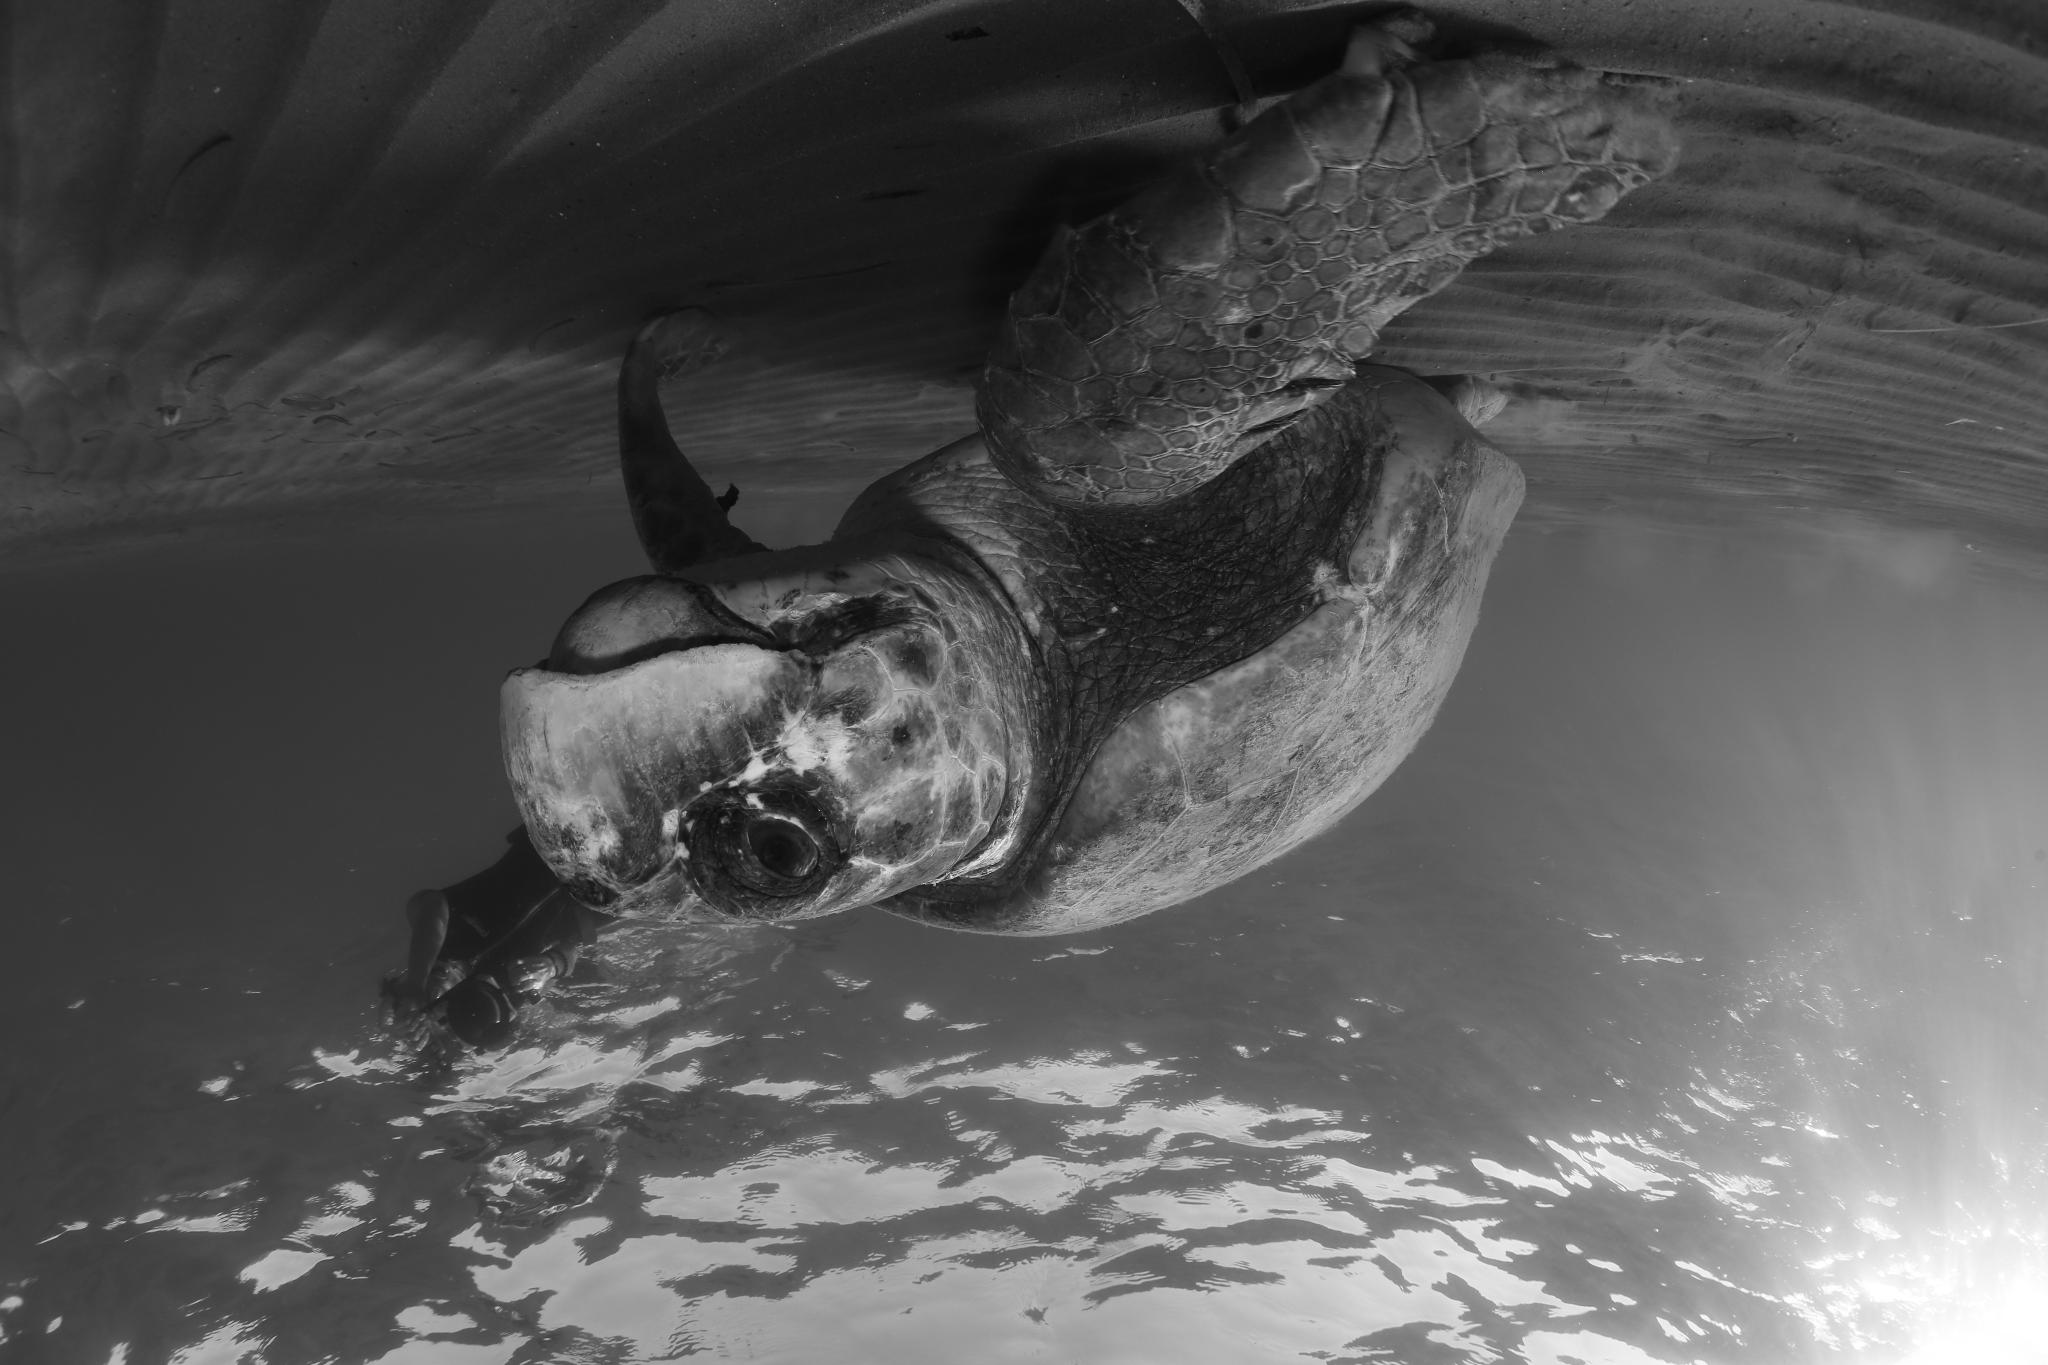Head: (500, 539, 1039, 924)
